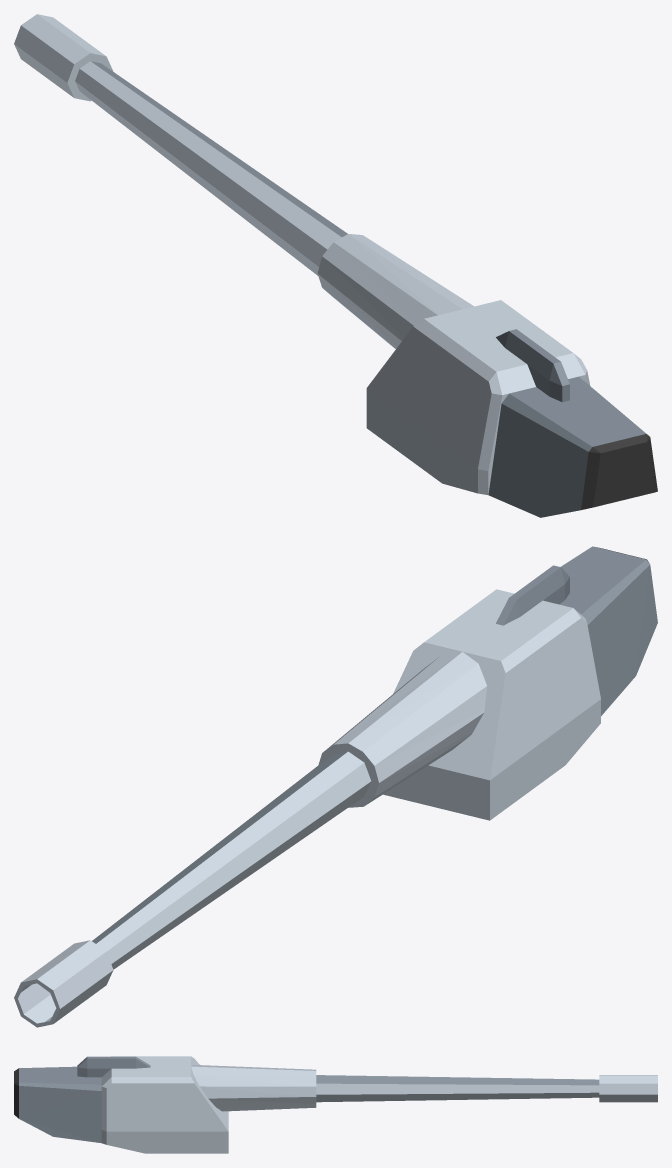
Rendered from Cannon.FBX.
The picture shows the model from 3 angles, top to bottom: view 1: azimuth 30°, elevation 25°; view 2: azimuth 150°, elevation 25°; view 3: azimuth 270°, elevation 25°; orthographic projection. The views are drawn at different scales.
Parts seen in each view (by area): view 1: VIFS001, VIFS002, VIFS003; view 2: VIFS001, VIFS002; view 3: VIFS001, VIFS002, VIFS003.
Part boxes in pixels (x1,y1,x2,y2): VIFS001: (14, 14, 590, 494); VIFS002: (91, 61, 646, 517); VIFS003: (581, 434, 657, 509); VIFS001: (14, 589, 600, 1027); VIFS002: (92, 546, 657, 943); VIFS001: (101, 1056, 657, 1153); VIFS002: (19, 1056, 599, 1143); VIFS003: (14, 1068, 18, 1118).
Bounding box in the file's own units: 0.16 × 0.18 × 1.32.
